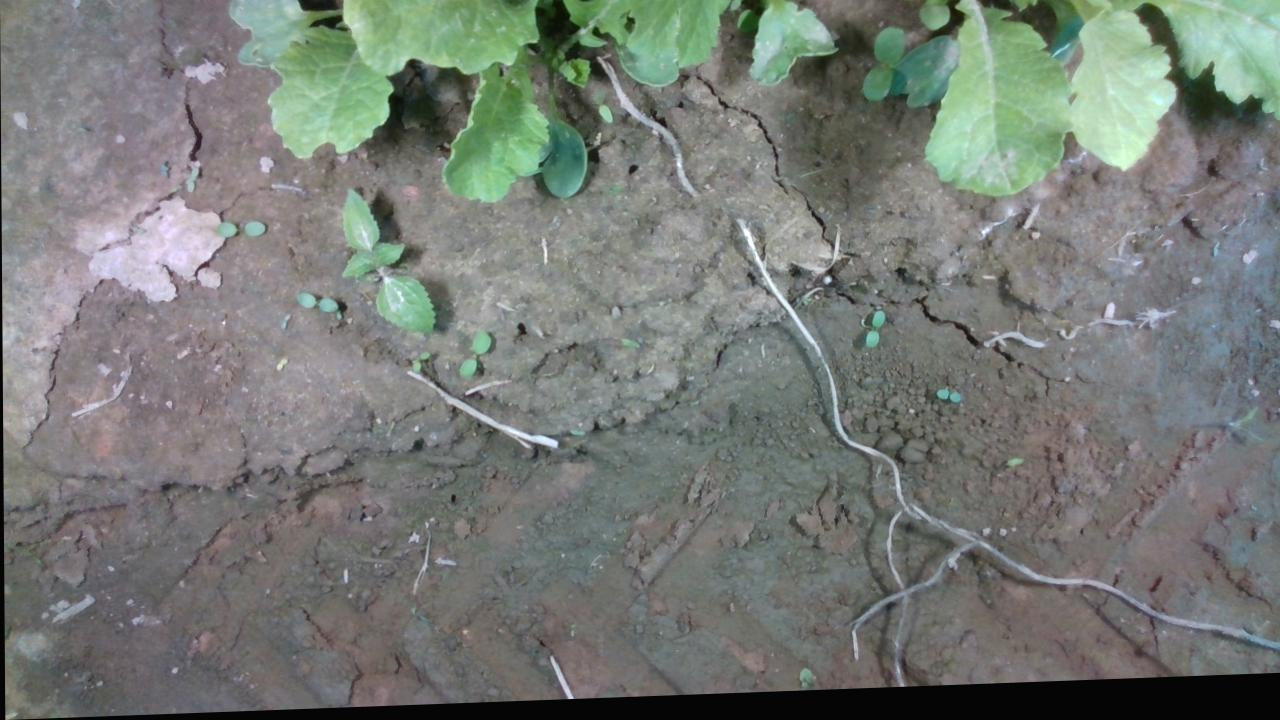weed: (210, 220, 267, 241)
